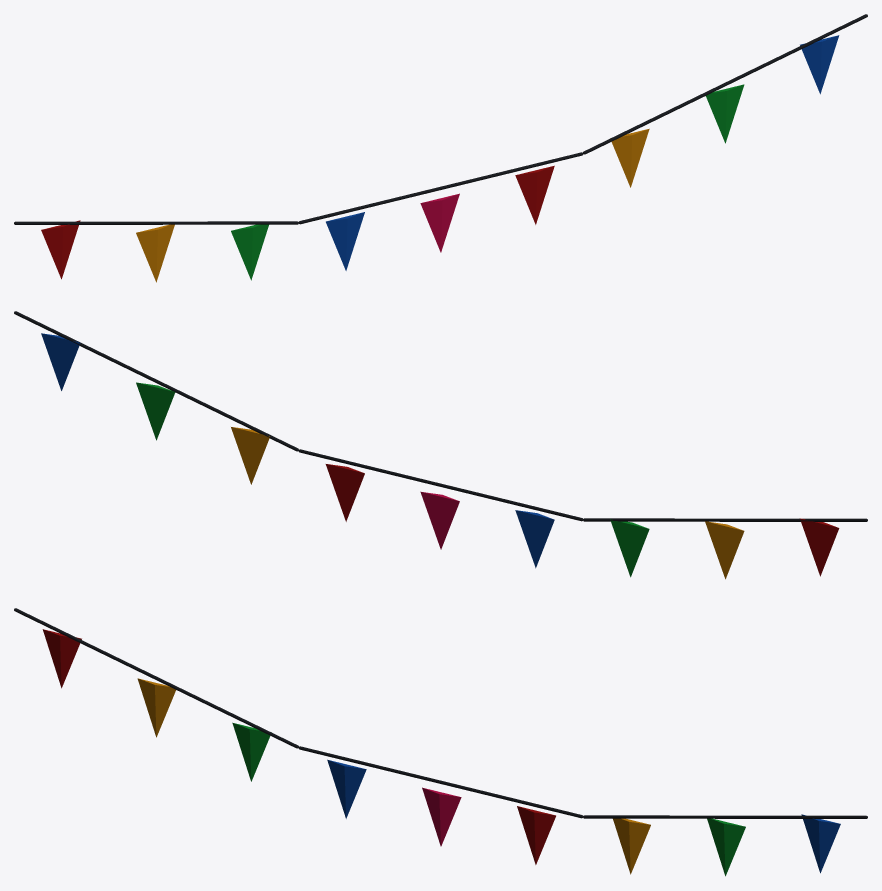
The model's file is day_co.glb.
3 views of the same model, one above another, from view 1: azimuth 30°, elevation 25°; view 2: azimuth 150°, elevation 25°; view 3: azimuth 330°, elevation 25° (orthographic).
Parts seen in each view (by area): view 1: Mesh_0; view 2: Mesh_0; view 3: Mesh_0.
Boxes of the visible parts, left/top/right/bottom form: Mesh_0: left=14, top=14, right=867, bottom=282; Mesh_0: left=14, top=311, right=867, bottom=579; Mesh_0: left=14, top=608, right=867, bottom=876.
Size of the model in its own units: 5.6 by 0.8474 by 0.028.
